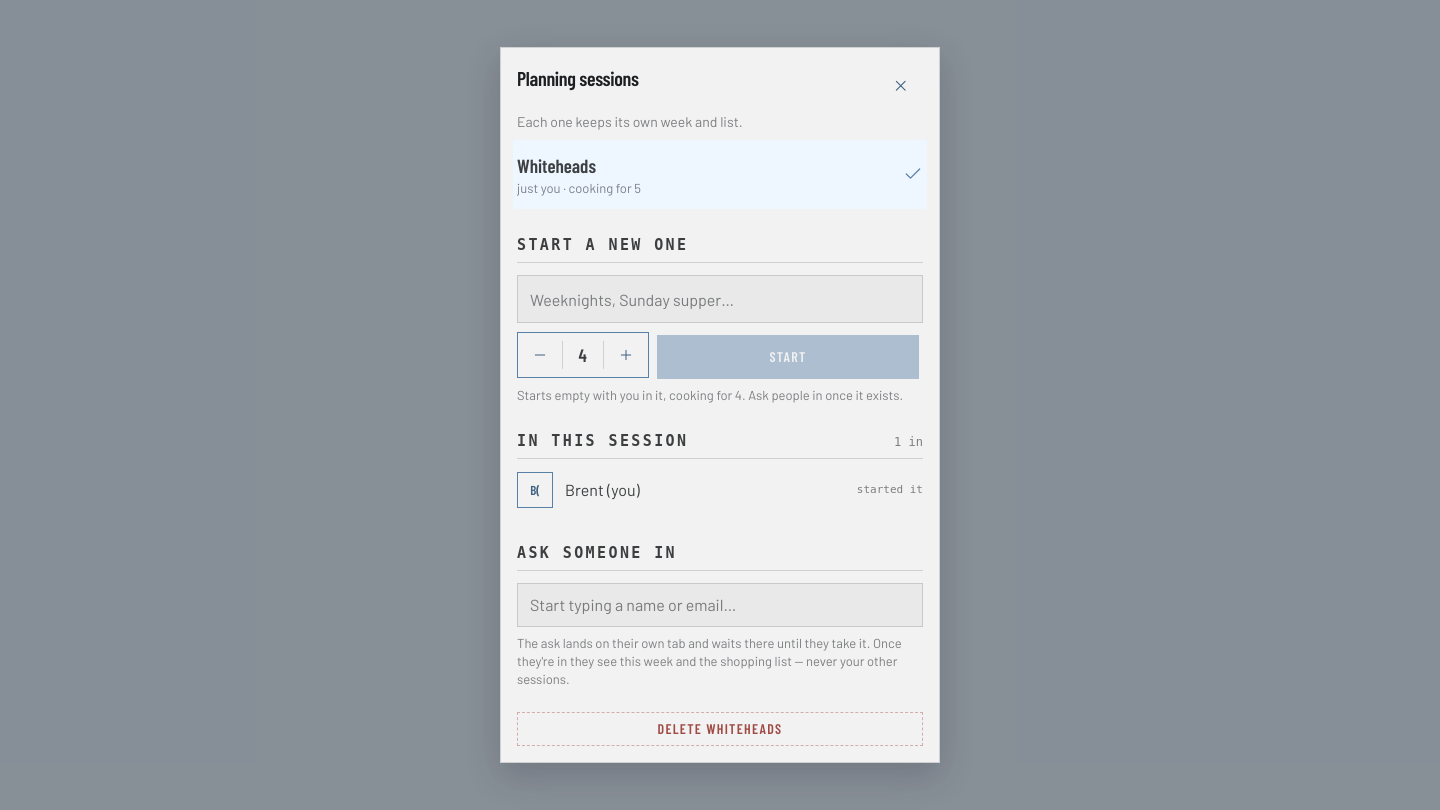
Test case: who a row is › does not print the address twice when it is standing in for a missing name
The width and height of the screenshot is (1440, 810).
Type "nameless" into the search field named "search people" at (720, 605), box left=517, top=583, right=923, bottom=627
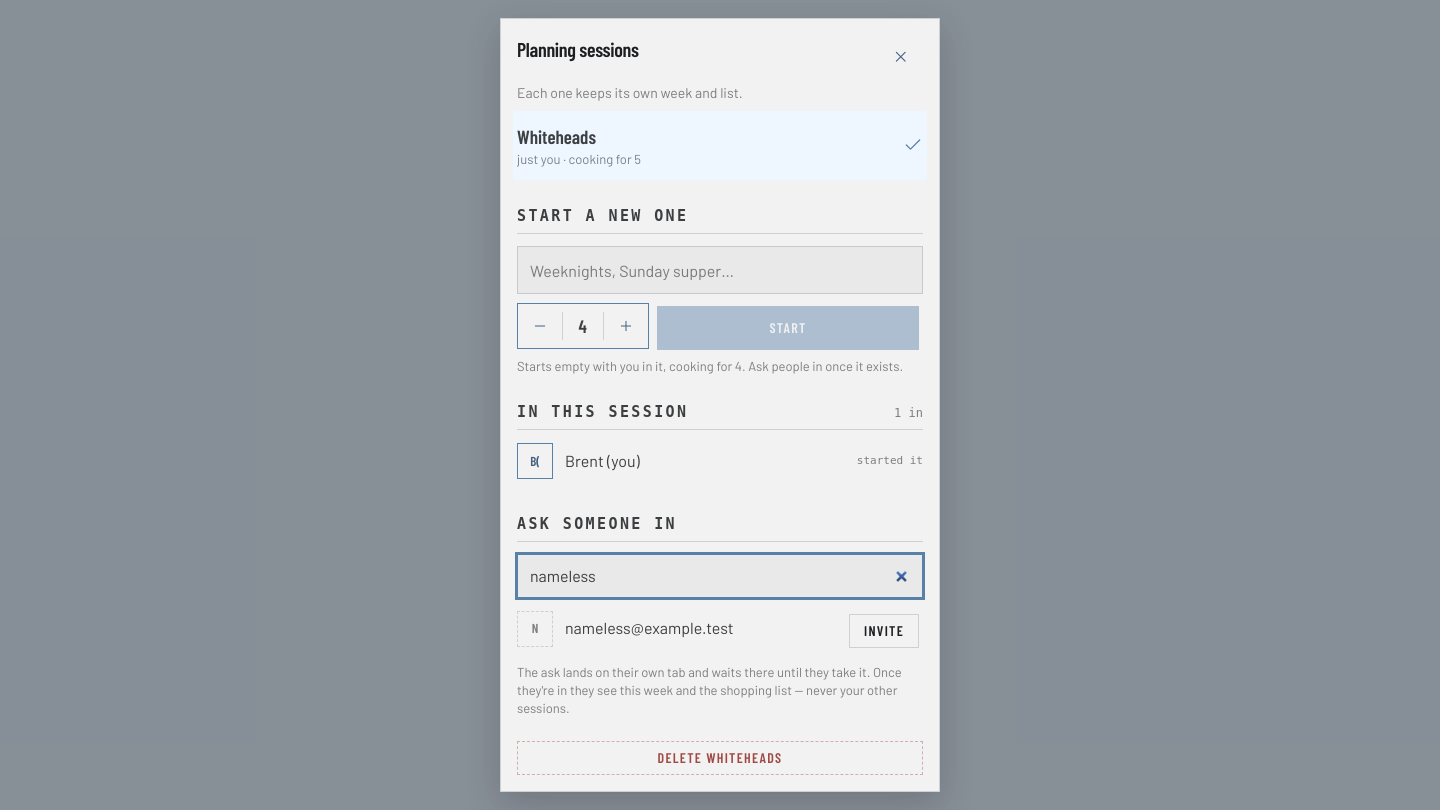
Result: the text "nameless@example.test" is shown once at left=565, top=618, right=734, bottom=637
